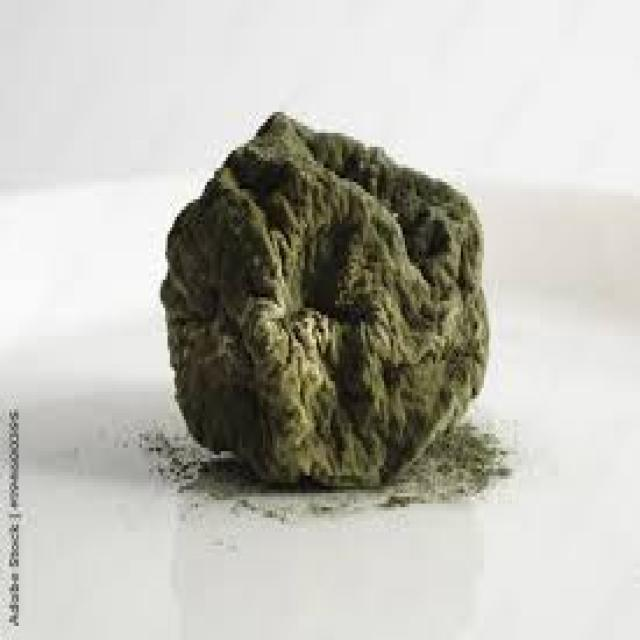Rotten: (160, 109, 490, 494)
